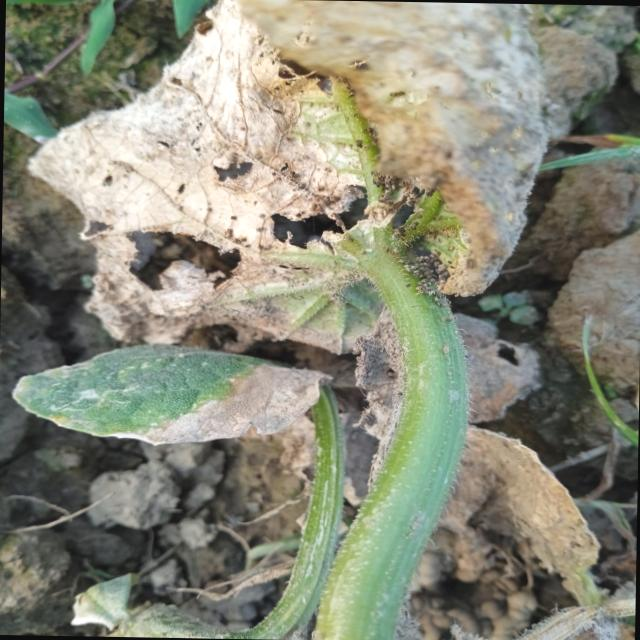cucumber_bacterial: (37, 5, 380, 348), (0, 326, 321, 449), (432, 420, 638, 609), (373, 156, 502, 314), (68, 574, 282, 640)
